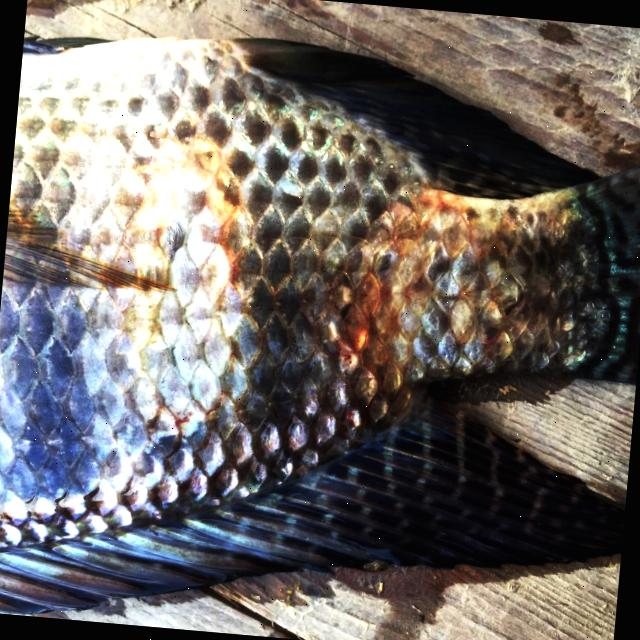Columnaris Disease: (0, 38, 640, 612)
